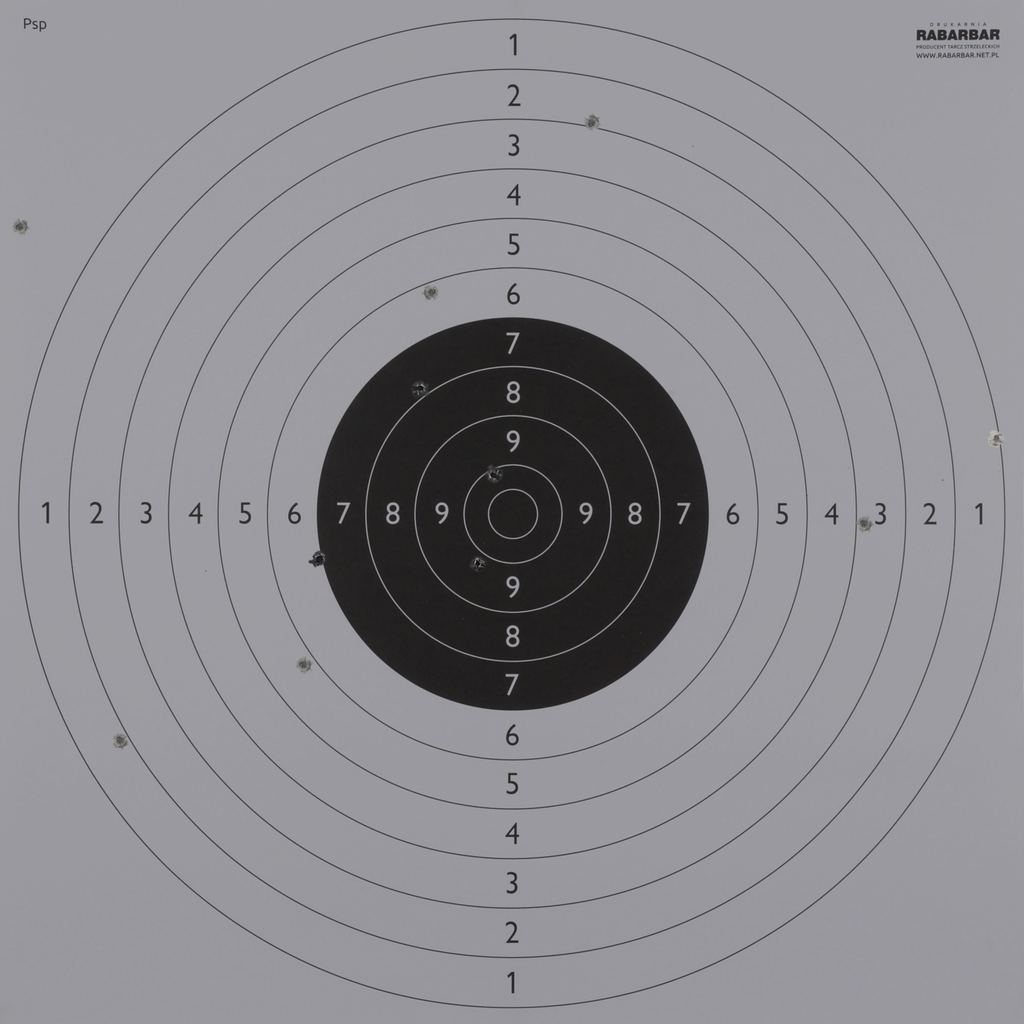0 punktow: (11, 218, 29, 236)
1 punkt: (987, 429, 1006, 448)
10 punktow: (484, 466, 503, 484)
2 punkty: (111, 731, 129, 750)
3 punkty: (583, 114, 601, 132)
4 punkty: (855, 515, 873, 533)
5 punktow: (294, 656, 313, 674)
6 punktow: (422, 283, 441, 302)
7 punktow: (310, 550, 328, 568)
8 punktow: (411, 379, 430, 398)
9 punktow: (469, 554, 487, 572)
